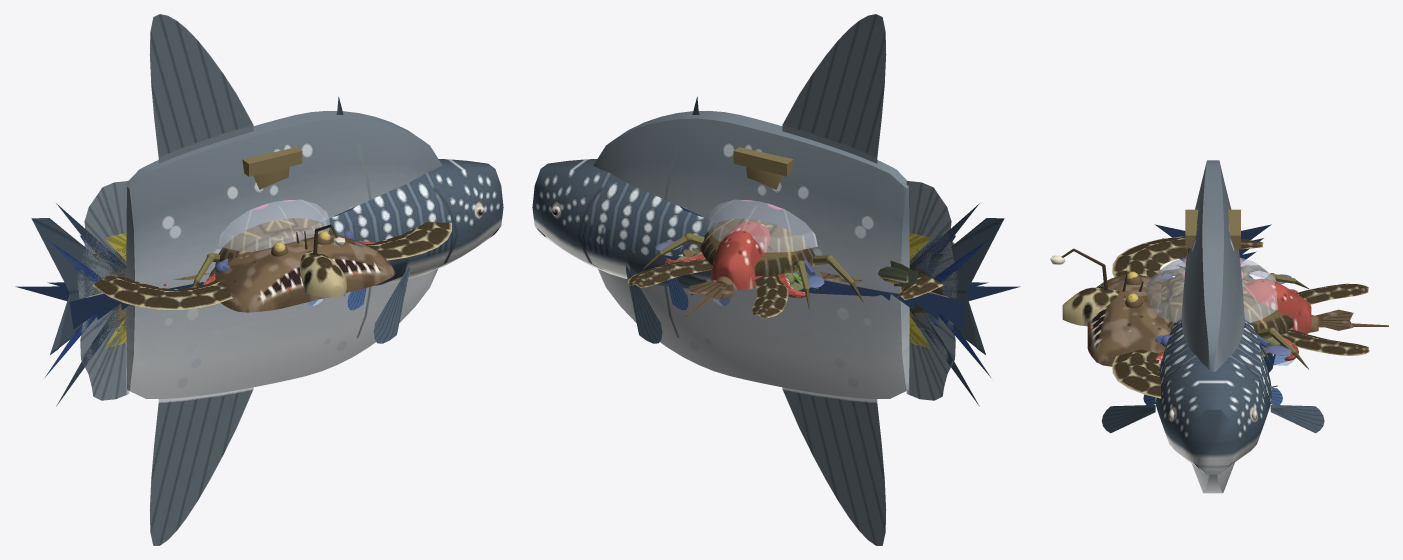
File: fish.glb
3 views of the same model, side by side, from view 1: azimuth 30°, elevation 25°; view 2: azimuth 150°, elevation 25°; view 3: azimuth 270°, elevation 25° (orthographic).
Parts seen in each view (by area): view 1: fish_gaebokchi, fish_goraesangeo, fish_badageobuk, fish_agwi, fish_haepari, fish_chamdarangeo, fish_boot, fishshadow_6, fish_dotsaechi, fish_bangeo; view 2: fish_gaebokchi, fish_goraesangeo, fish_badageobuk, fish_haepari, fish_muneo, fishshadow_6, fish_boot, fish_chamdarangeo, fish_chamge, fish_sangeo, fish_agwi, fish_dotsaechi (+3 smaller); view 3: fish_goraesangeo, fish_gaebokchi, fish_badageobuk, fish_agwi, fish_haepari, fish_muneo, fish_chamge, fish_boot, fishshadow_6, fish_kkotge.
Part boxes in pixels (x1,y1,x2,y2): fish_gaebokchi: [77, 14, 442, 545]; fish_goraesangeo: [31, 96, 503, 354]; fish_badageobuk: [92, 218, 451, 309]; fish_agwi: [186, 224, 395, 312]; fish_haepari: [218, 199, 329, 252]; fish_chamdarangeo: [56, 203, 354, 406]; fish_boot: [242, 147, 302, 189]; fishshadow_6: [15, 286, 96, 329]; fish_dotsaechi: [44, 237, 102, 377]; fish_bangeo: [104, 233, 126, 348]; fish_gaebokchi: [593, 14, 958, 545]; fish_goraesangeo: [532, 96, 1004, 354]; fish_badageobuk: [627, 218, 954, 318]; fish_haepari: [706, 199, 817, 252]; fish_muneo: [665, 221, 805, 298]; fishshadow_6: [662, 255, 1020, 329]; fish_boot: [733, 147, 793, 189]; fish_chamdarangeo: [680, 203, 979, 406]; fish_chamge: [643, 233, 863, 309]; fish_sangeo: [667, 235, 955, 328]; fish_agwi: [688, 271, 863, 300]; fish_dotsaechi: [933, 237, 991, 377]; fish_goraesangeo: [1102, 317, 1324, 474]; fish_gaebokchi: [1181, 160, 1244, 493]; fish_badageobuk: [1062, 236, 1369, 398]; fish_agwi: [1050, 248, 1353, 366]; fish_haepari: [1145, 257, 1277, 322]; fish_muneo: [1155, 270, 1311, 366]; fish_chamge: [1161, 265, 1308, 369]; fish_boot: [1185, 209, 1240, 253]; fishshadow_6: [1154, 224, 1275, 372]; fish_kkotge: [1090, 274, 1291, 362].
Bounding box in the file's own units: 1.92 × 2.1 × 1.21.
125 materials, 80 textured.
